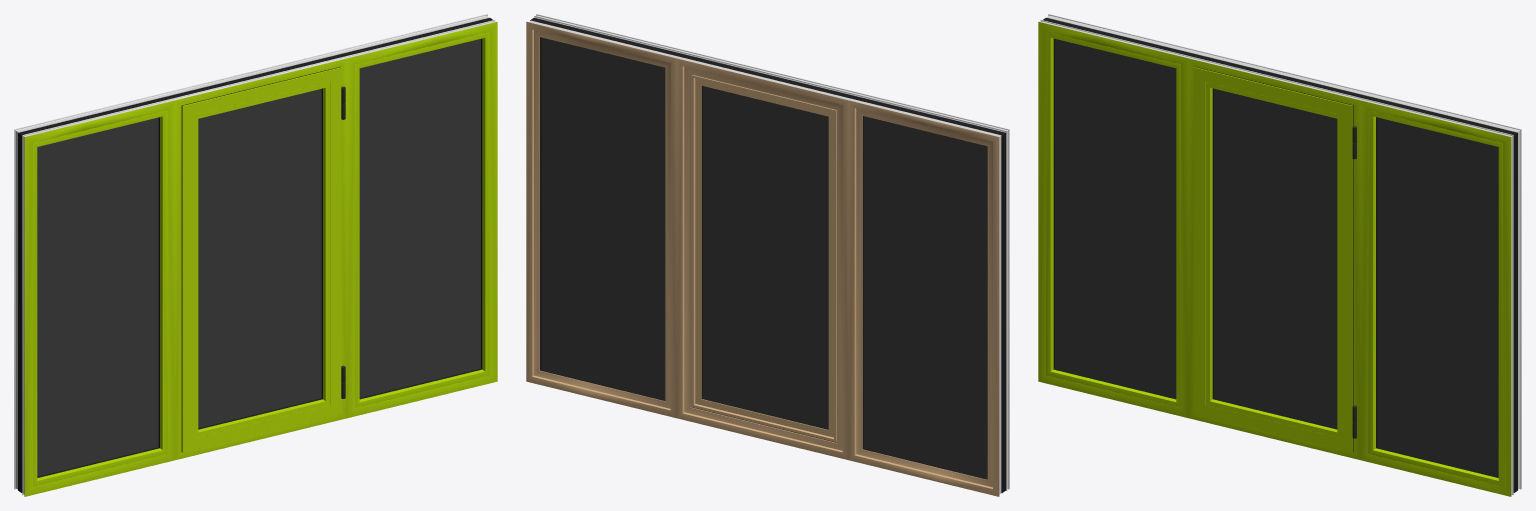
The model's file is 85_3_glass_1_door.fbx.
The picture shows the model from 3 angles, left to right: view 1: azimuth 30°, elevation 25°; view 2: azimuth 150°, elevation 25°; view 3: azimuth 330°, elevation 25°; orthographic projection.
Visible parts, largest first — view 1: SM_extra_85_004, SM_Window_Frame_1_door_85_001, SM_Door_Frame_85_R_014, SM_Door_Frame_85_R_015, SM_Window_Frame_1_door_85_002, SM_extra_85_009, SM_Door_Frame_85_R_018; view 2: SM_extra_85_004, SM_Window_Frame_1_door_85_001, SM_Door_Frame_85_R_014, SM_Door_Frame_85_R_015, SM_Window_Frame_1_door_85_002, SM_extra_85_009, SM_Door_Frame_85_R_018; view 3: SM_extra_85_004, SM_Window_Frame_1_door_85_001, SM_Door_Frame_85_R_014, SM_Door_Frame_85_R_015, SM_Window_Frame_1_door_85_002, SM_extra_85_009, SM_Door_Frame_85_R_018.
Boxes of the visible parts, bbox=[...] form: SM_extra_85_004: bbox=[37, 39, 480, 476]; SM_Window_Frame_1_door_85_001: bbox=[14, 14, 497, 496]; SM_Door_Frame_85_R_014: bbox=[198, 89, 321, 428]; SM_Door_Frame_85_R_015: bbox=[182, 67, 341, 452]; SM_Window_Frame_1_door_85_002: bbox=[18, 18, 493, 492]; SM_extra_85_009: bbox=[37, 38, 482, 477]; SM_Door_Frame_85_R_018: bbox=[181, 66, 340, 451]; SM_extra_85_004: bbox=[541, 37, 987, 477]; SM_Window_Frame_1_door_85_001: bbox=[526, 14, 1009, 496]; SM_Door_Frame_85_R_014: bbox=[703, 86, 828, 428]; SM_Door_Frame_85_R_015: bbox=[691, 74, 837, 442]; SM_Window_Frame_1_door_85_002: bbox=[530, 18, 1005, 492]; SM_extra_85_009: bbox=[540, 37, 987, 479]; SM_Door_Frame_85_R_018: bbox=[701, 86, 828, 429]; SM_extra_85_004: bbox=[1055, 39, 1498, 476]; SM_Window_Frame_1_door_85_001: bbox=[1038, 14, 1521, 496]; SM_Door_Frame_85_R_014: bbox=[1214, 88, 1337, 427]; SM_Door_Frame_85_R_015: bbox=[1194, 67, 1353, 452]; SM_Window_Frame_1_door_85_002: bbox=[1042, 18, 1517, 492]; SM_extra_85_009: bbox=[1053, 38, 1498, 477]; SM_Door_Frame_85_R_018: bbox=[1195, 66, 1353, 452].
Size of the model in its own units: 220 by 160 by 10.26.
